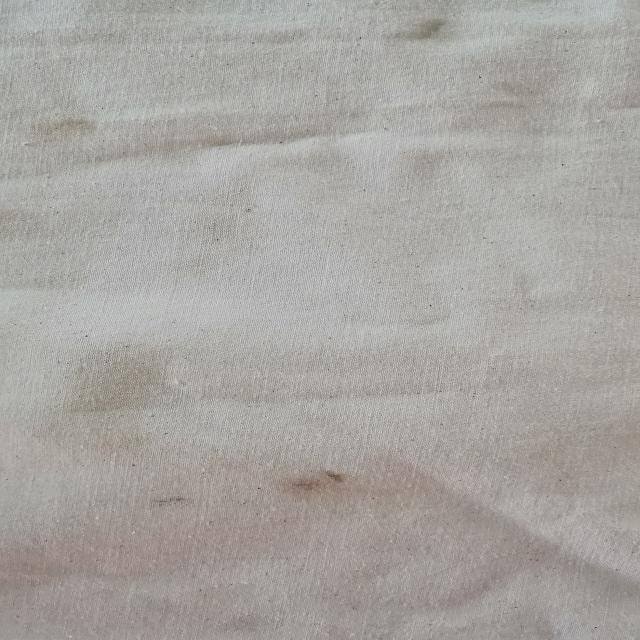taaaches: (370, 0, 486, 64), (274, 459, 372, 507), (52, 102, 116, 150), (140, 486, 209, 520)
